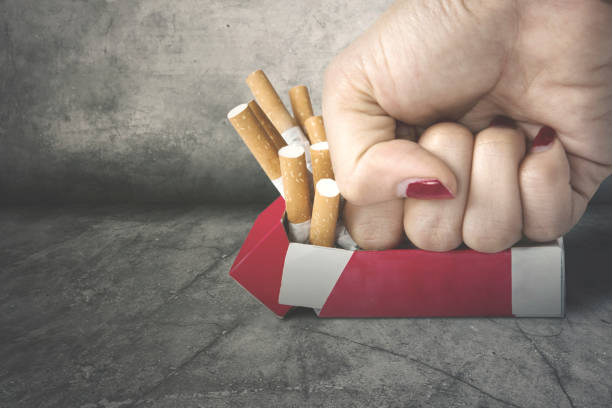cigarette: (227, 192, 568, 321), (247, 66, 311, 170), (228, 102, 287, 200), (278, 144, 311, 242), (247, 97, 287, 151), (310, 176, 339, 245), (288, 82, 313, 134), (311, 141, 333, 192), (305, 113, 326, 143)
